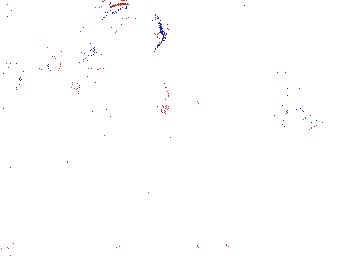moon jellyfish: (69, 49, 171, 117), (282, 26, 346, 133), (82, 4, 161, 70), (1, 20, 63, 78)
